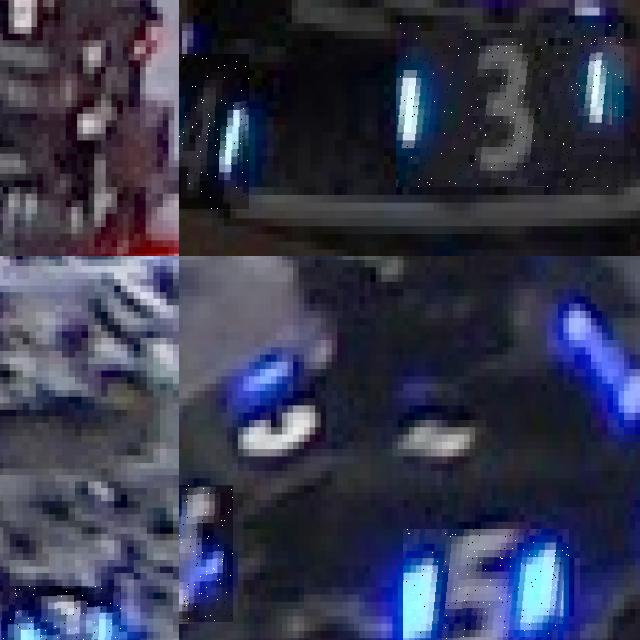B2: (0, 586, 120, 640)
B3: (396, 23, 624, 187)
B4: (179, 54, 248, 210)
B5: (403, 529, 568, 640), (179, 485, 232, 623)
